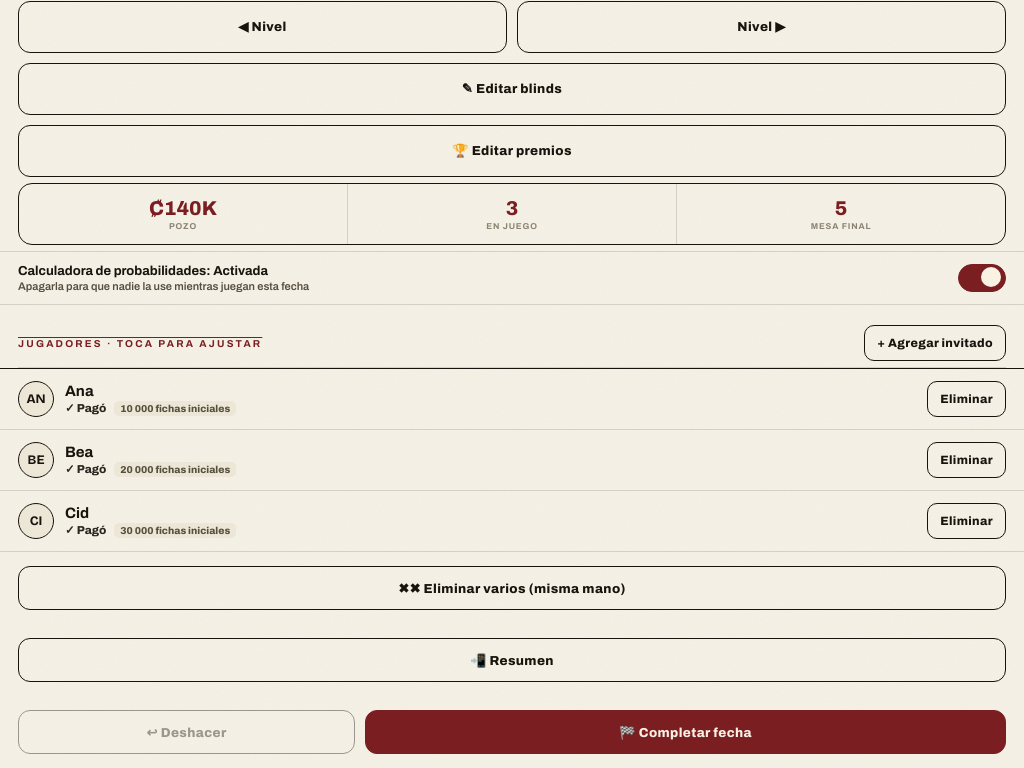
Test: Admin console (slice 12) › MultiBustSheet disables En orden + Empataron when all in-play are selected
(page scrolled)
Click the button "✖✖ Eliminar varios (misma mano)": (512, 588) [18,566,1006,610]
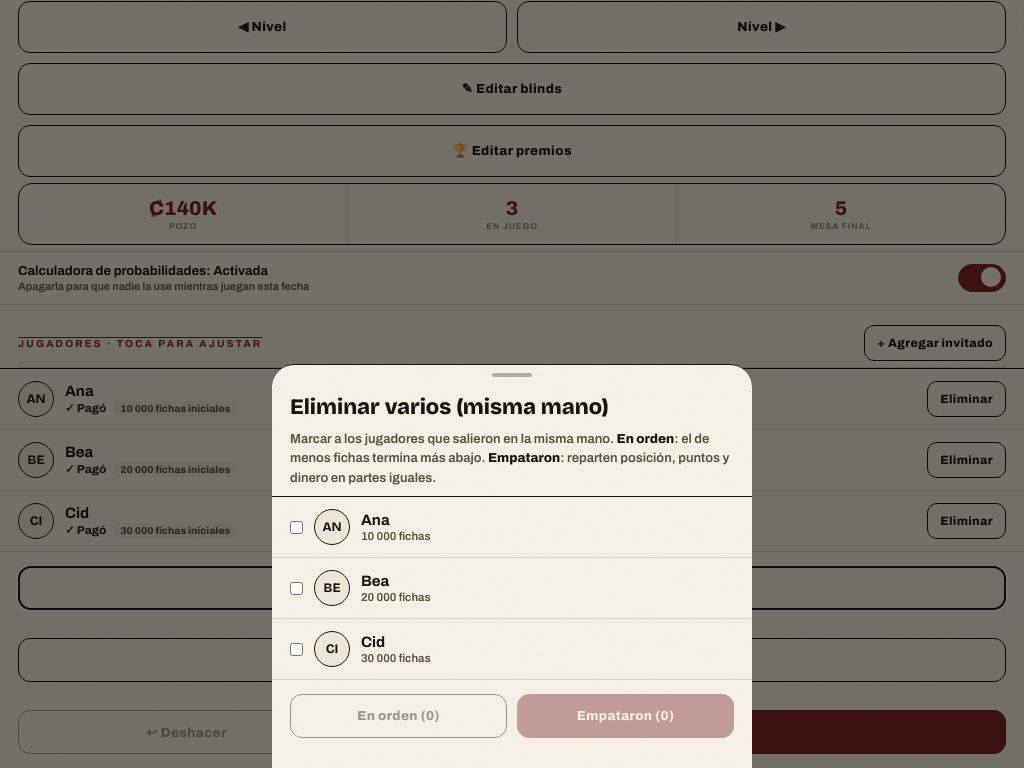
Click the checkbox named "Eliminar Ana": (296, 527) [290,521,303,534]
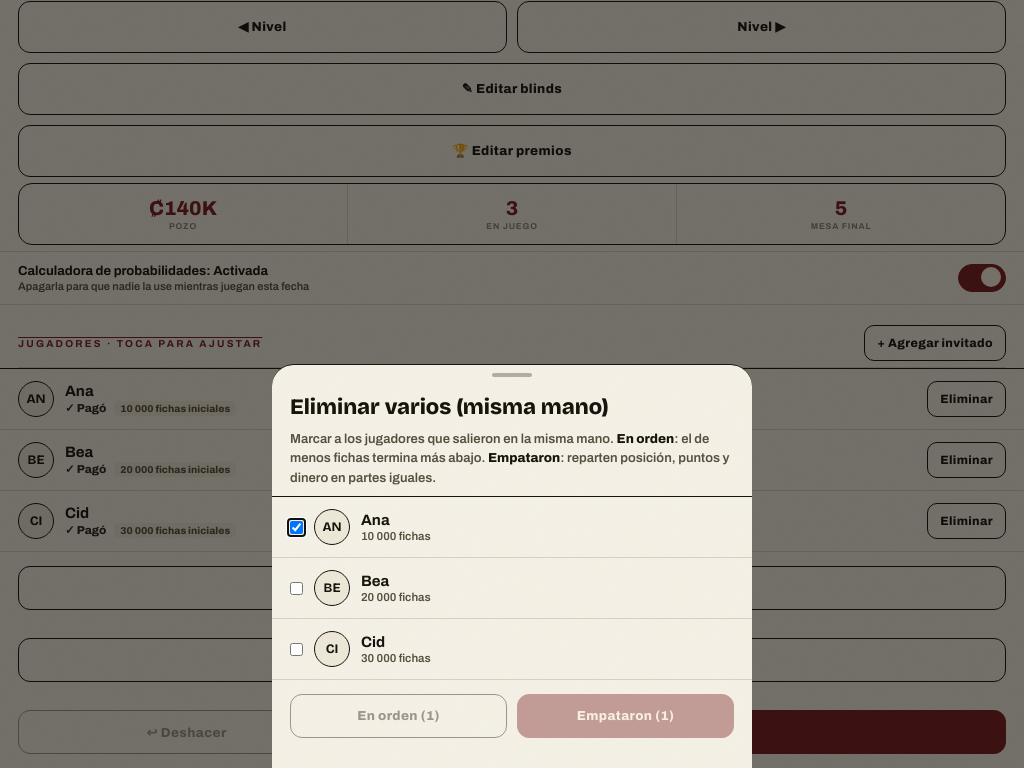
Click the checkbox named "Eliminar Bea": (296, 588) [290,582,303,595]
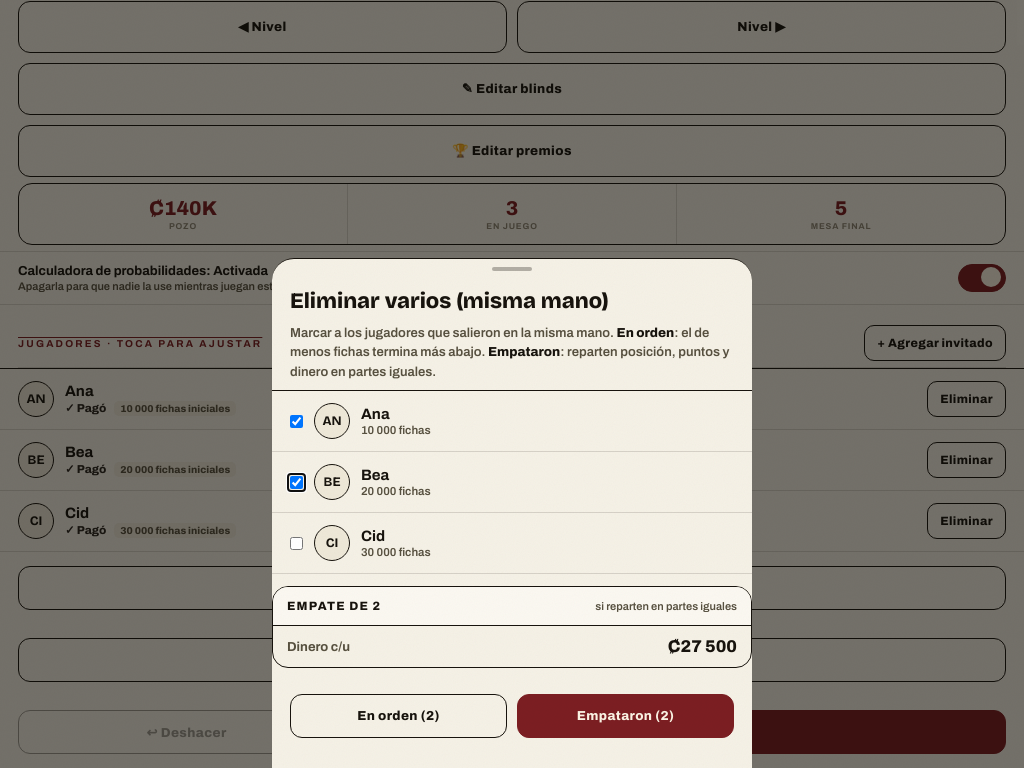
Now the button "En orden (2)" is enabled, box [290,694,507,738]
Now the button "Empataron (2)" is enabled, box [517,694,734,738]
Click the checkbox named "Eliminar Cid": (296, 543) [290,537,303,550]
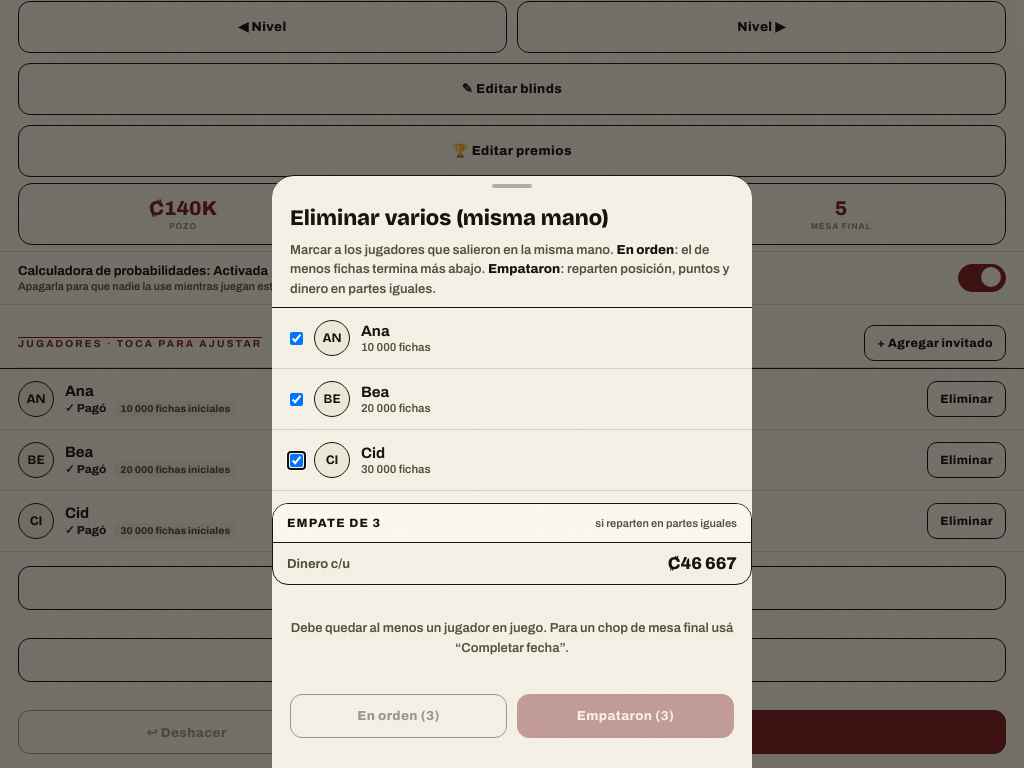
Now the button "En orden (3)" is disabled, box [290,694,507,738]
Now the button "Empataron (3)" is disabled, box [517,694,734,738]
Now the text with test id "multibust-survivor-hint" is shown, box [291,621,733,655]
